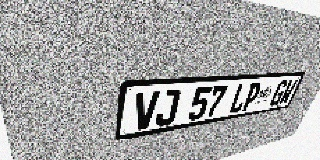5: (187, 86, 213, 121)
7: (204, 85, 228, 118)
G: (268, 80, 289, 107)
J: (154, 89, 181, 127)
L: (228, 83, 251, 114)
P: (240, 82, 263, 112)
V: (132, 91, 160, 131)
W: (278, 79, 298, 105)
